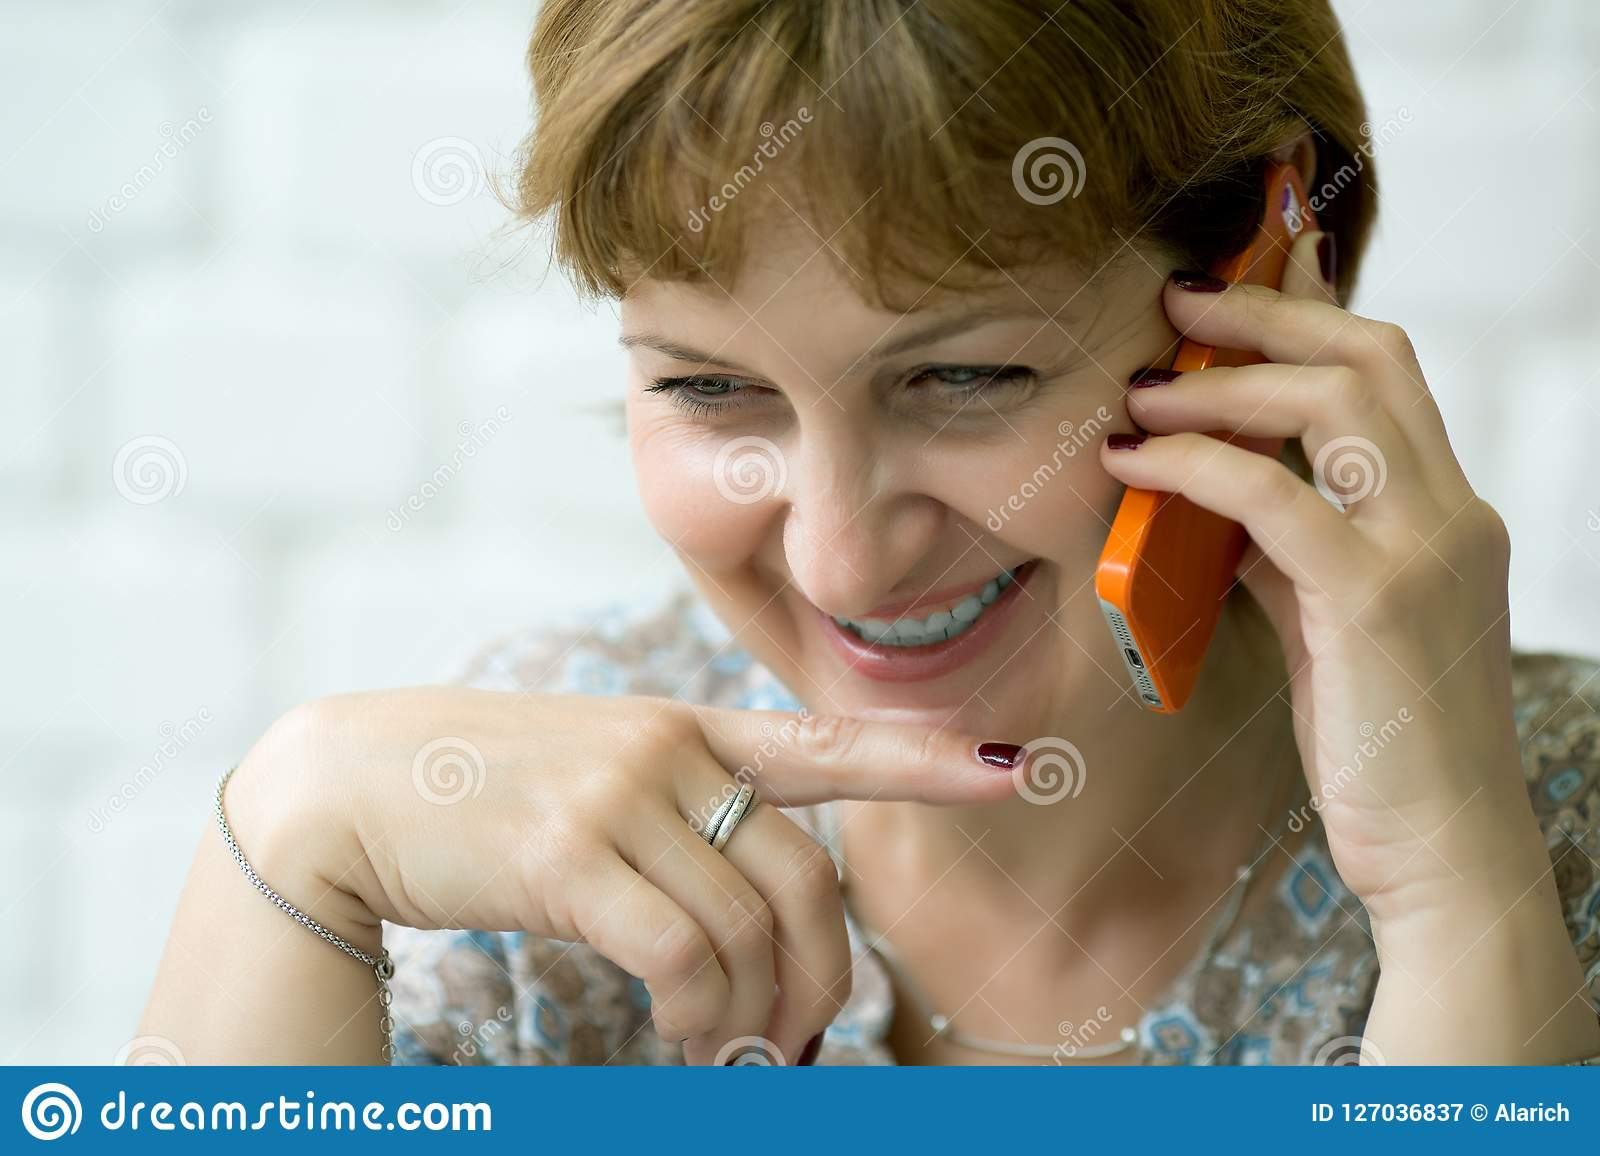phone: (1080, 151, 1342, 716)
talk: (624, 155, 1565, 942)
